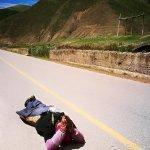Fall-Detected: (13, 89, 87, 148)
